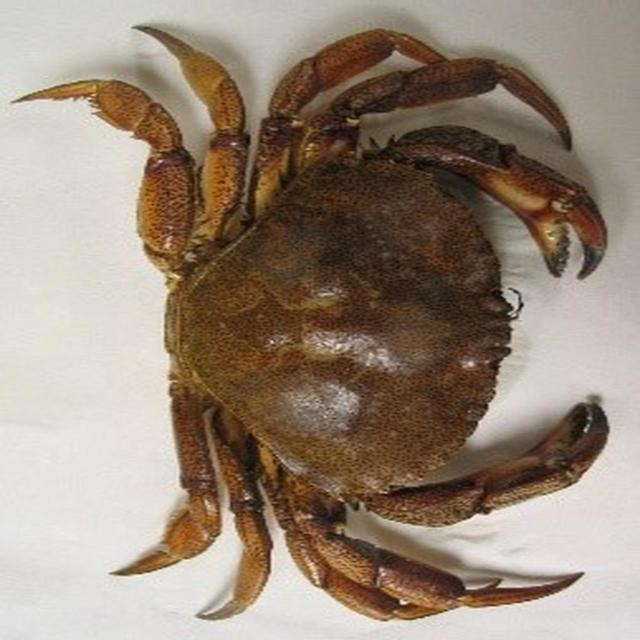Native Rock crab: (16, 27, 608, 619)
